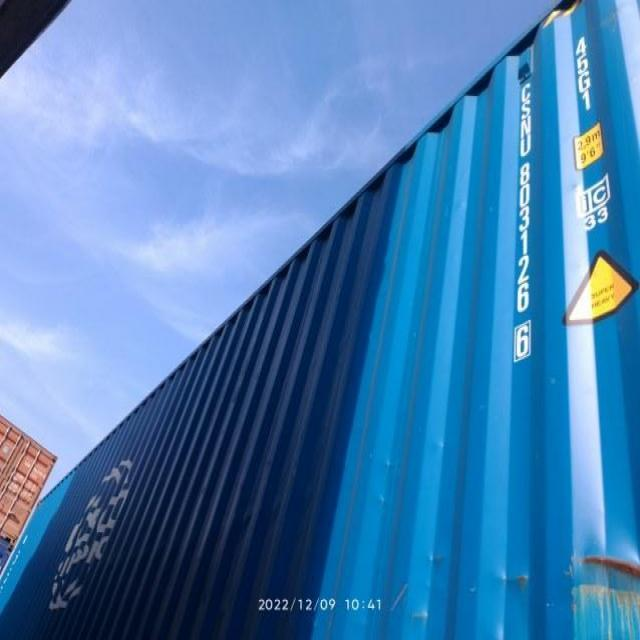ISO: (564, 29, 596, 116)
container_number: (493, 70, 536, 368)
